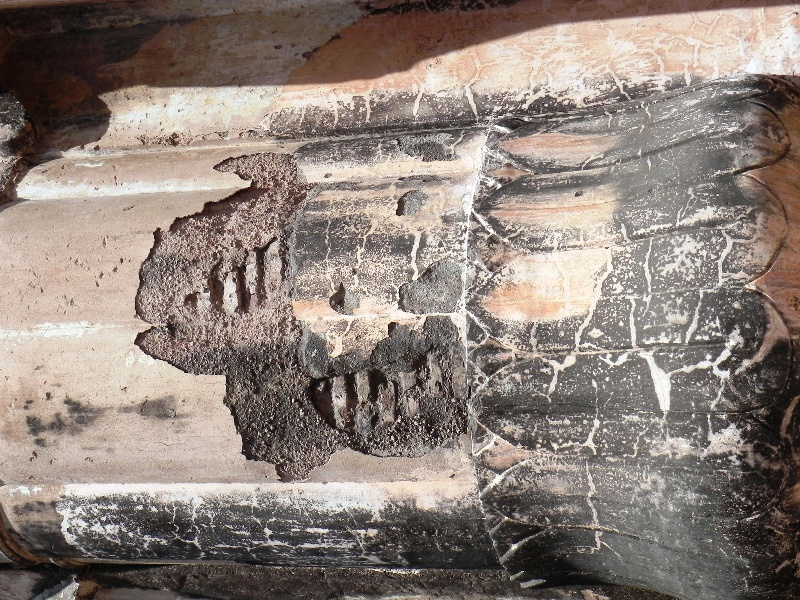Exposed Bricks: (307, 362, 456, 430), (195, 258, 283, 313)
Spalling: (118, 148, 467, 478)
